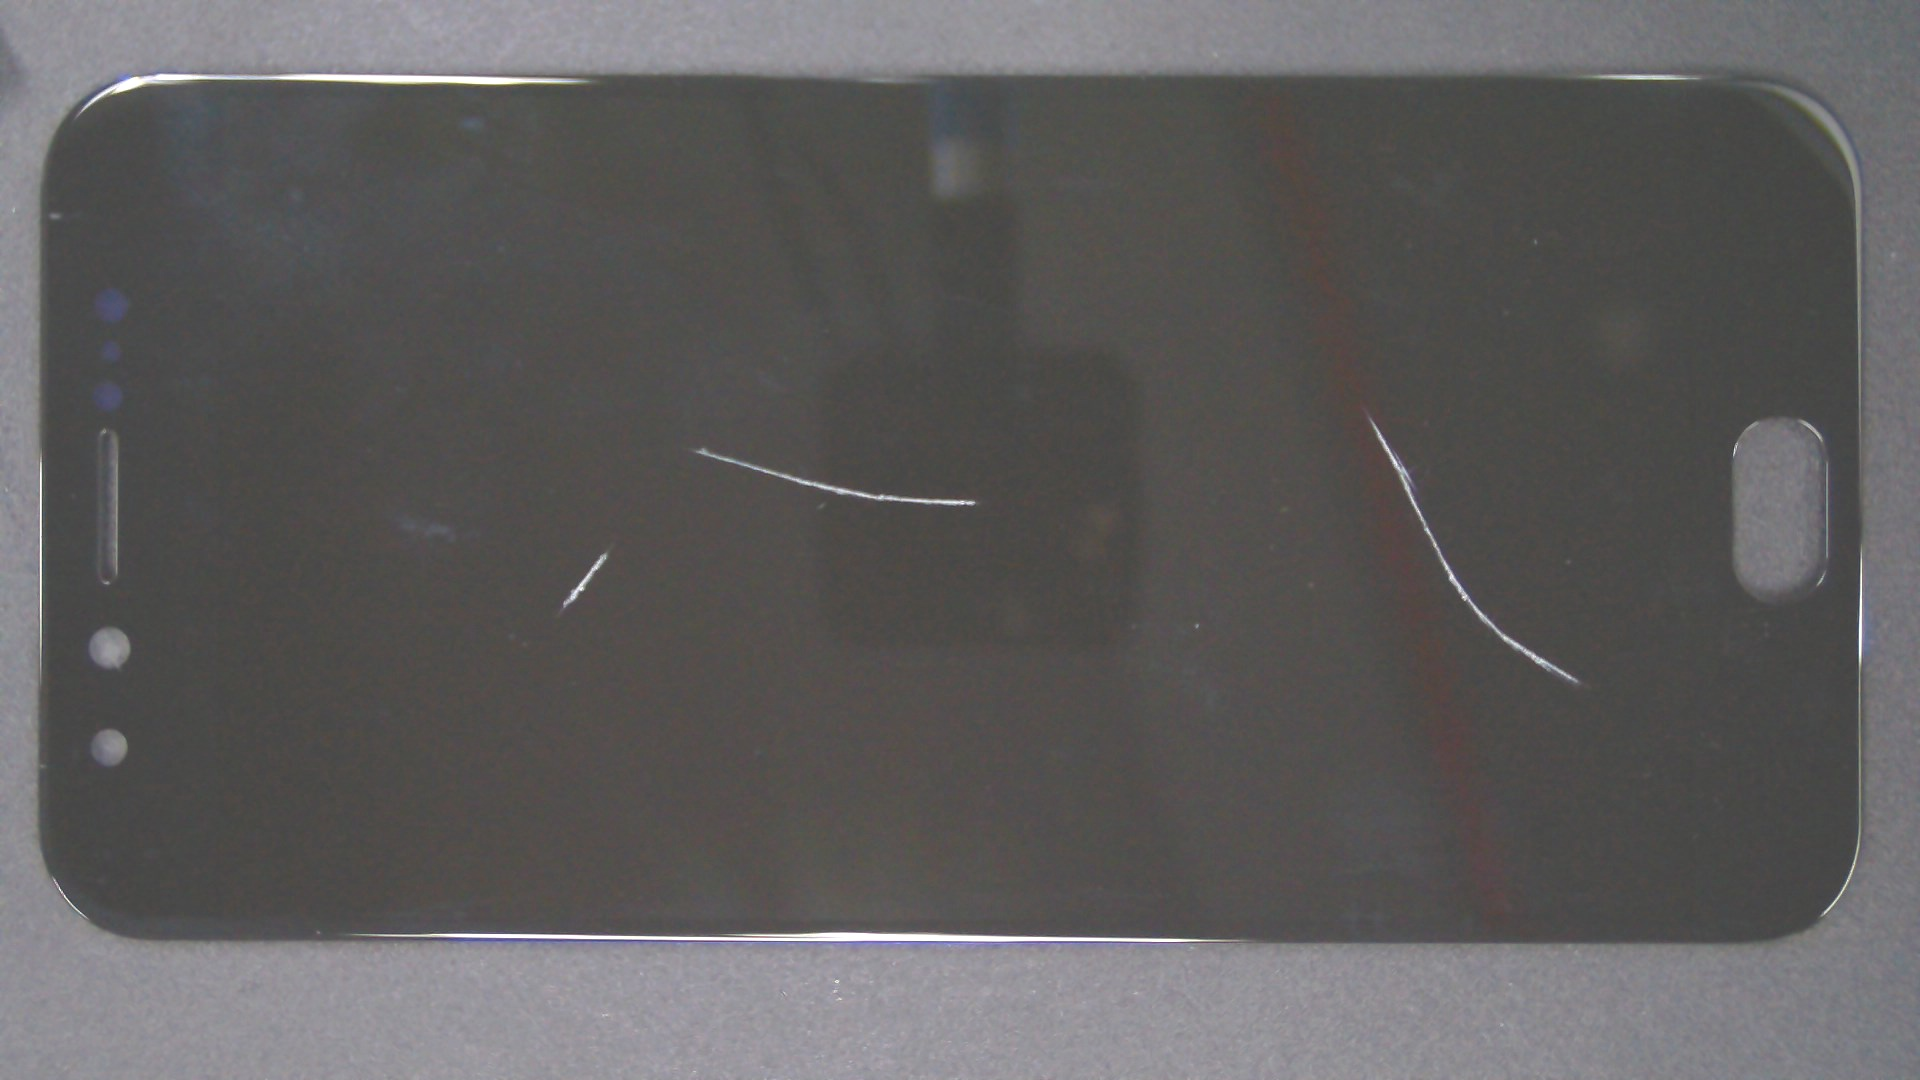oil: (684, 206, 1920, 625), (305, 274, 913, 825), (352, 223, 1054, 671)
